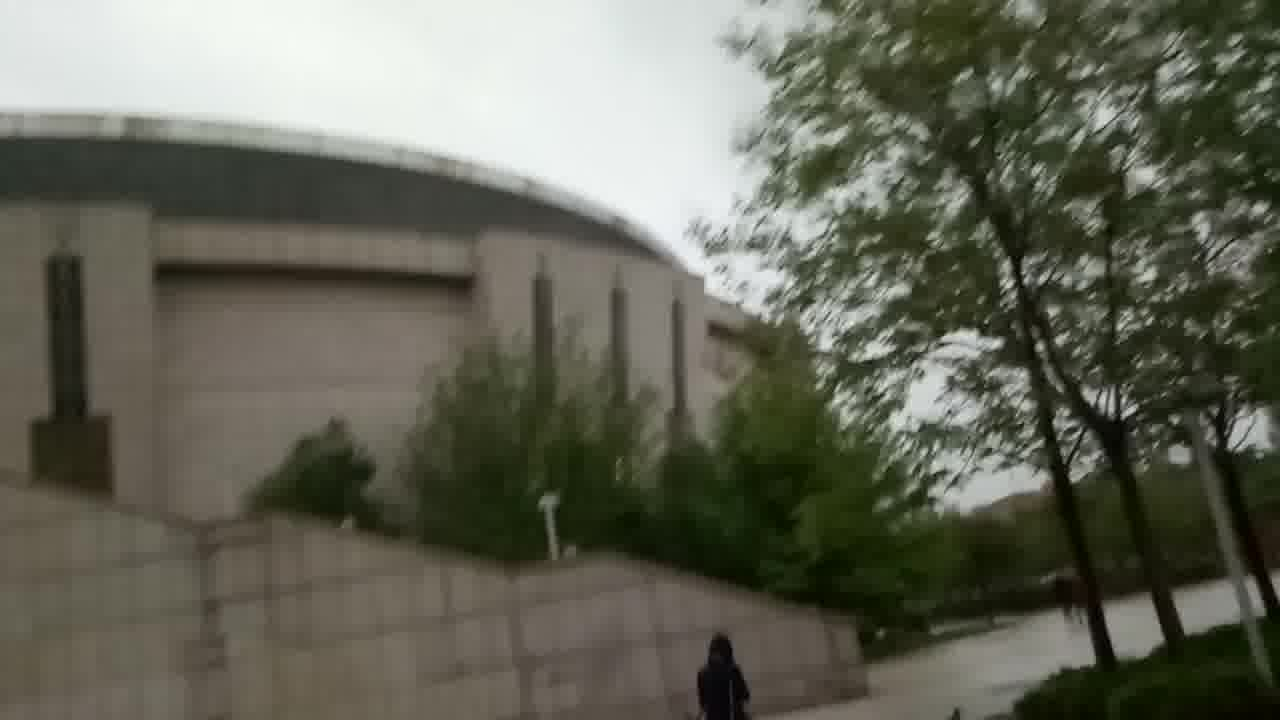zhongtiww: (3, 99, 872, 720)
